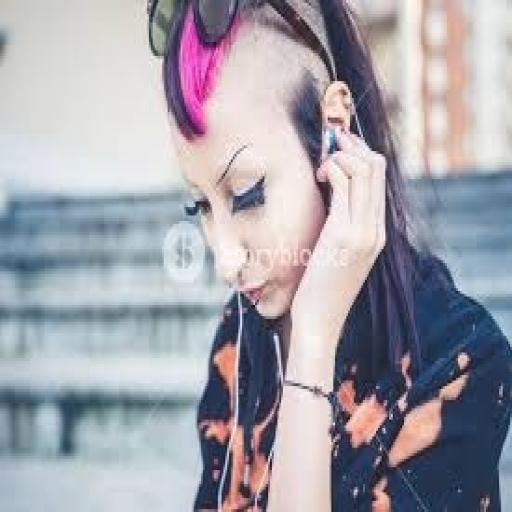listening_to_music: (147, 0, 510, 509)
